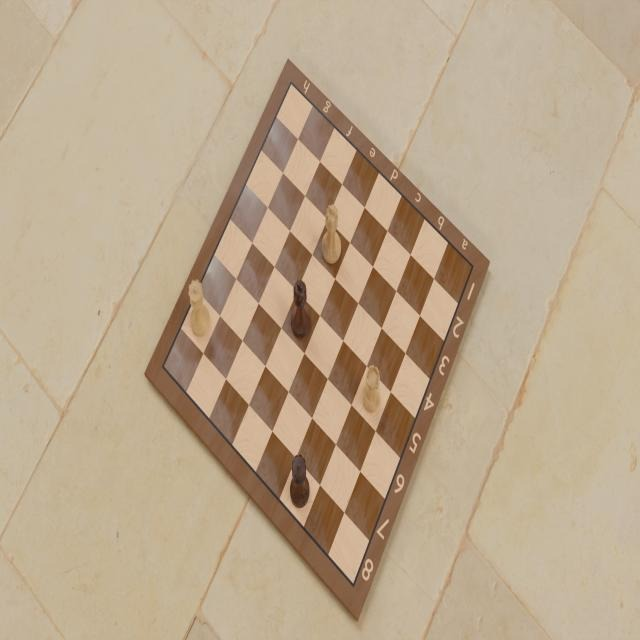black-king: (290, 277, 312, 339)
black-rook: (289, 451, 310, 508)
white-king: (321, 203, 343, 265)
white-queen: (187, 277, 210, 338)
white-rook: (362, 362, 382, 413)
